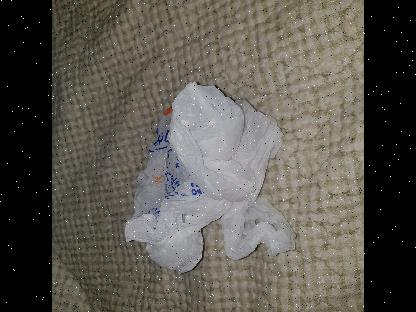Others: (123, 81, 295, 273)
